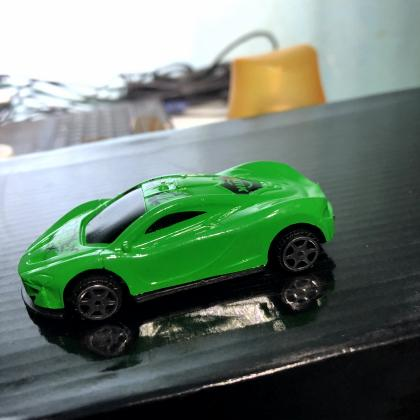Car: (13, 155, 340, 334)
